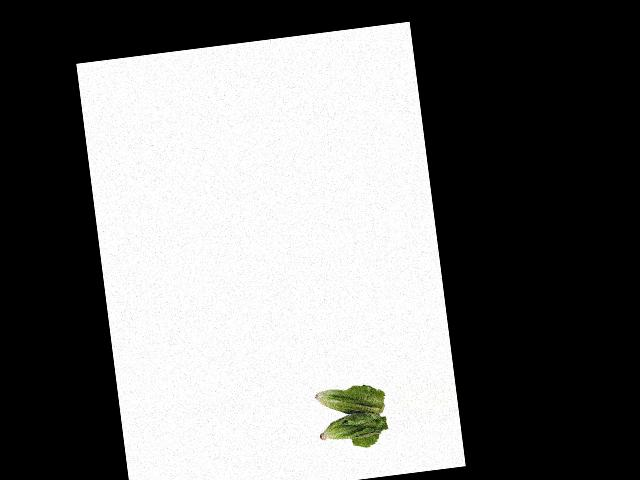lettuce: (313, 378, 390, 446)
